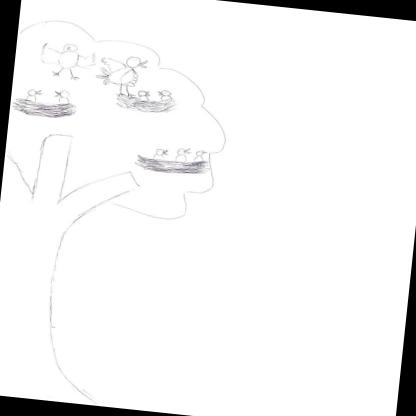bird: (38, 39, 100, 83), (96, 48, 149, 99), (48, 86, 74, 110), (20, 85, 41, 108), (152, 86, 173, 107), (150, 144, 170, 166), (174, 146, 193, 166), (192, 148, 209, 167), (136, 87, 152, 104)
branch_cut: (0, 122, 146, 223)
crown_cloud: (1, 14, 236, 228)
trunk_reflex: (0, 224, 80, 364)
